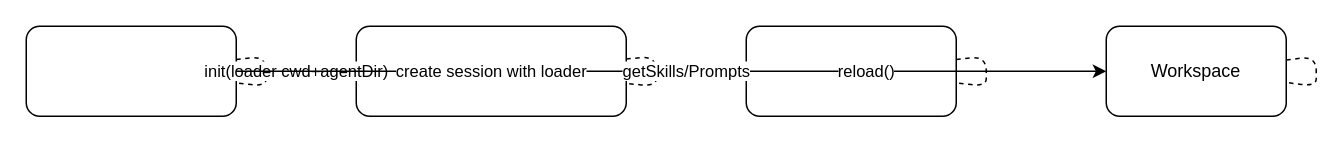
This 1344x143 diagram has some shape labels left out. The centre of each missing label's shape, as x and y in pixels:
"Agent Session" belongs at point 850,70.
"Developer" belongs at point 130,70.
